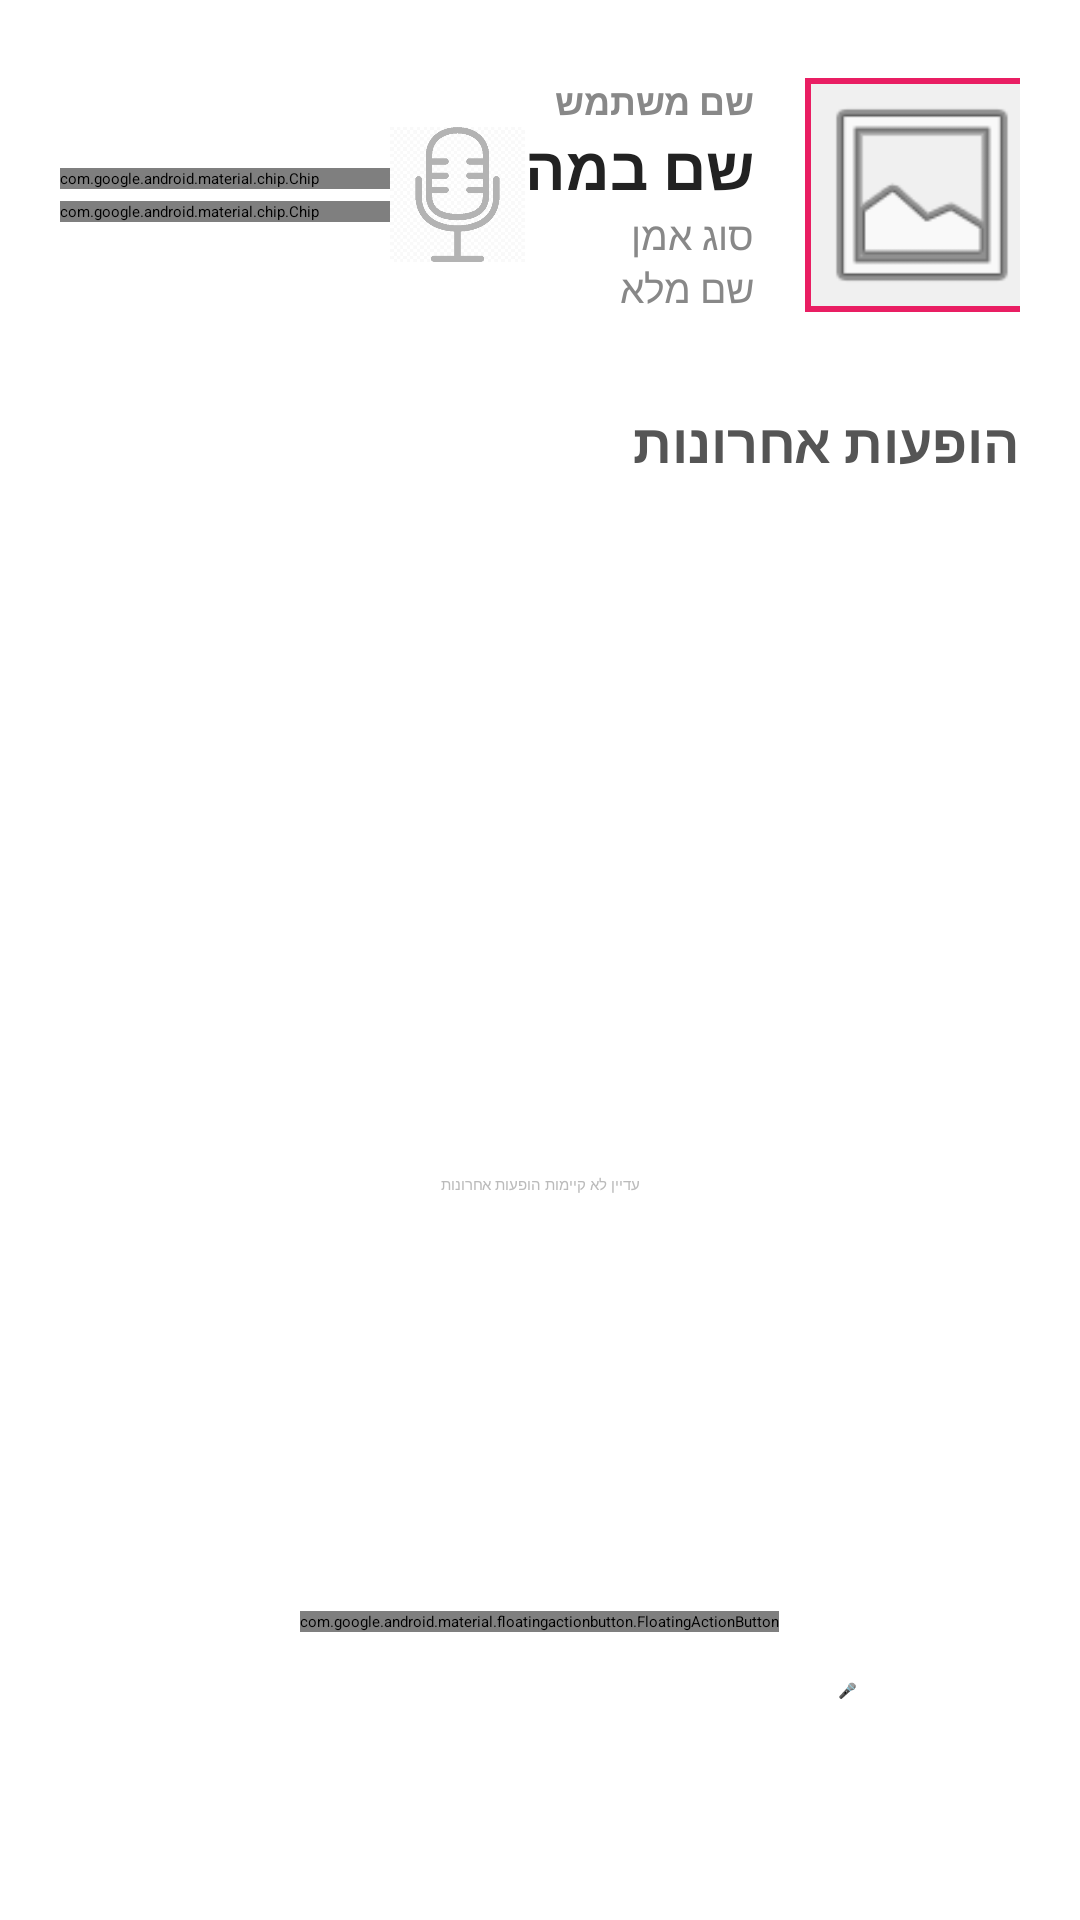

Locate icon controls on the screen. Image size 1080 x 1920, boxes as box(x1, y1, x2, y2).
gallery: box(805, 78, 1020, 312)
